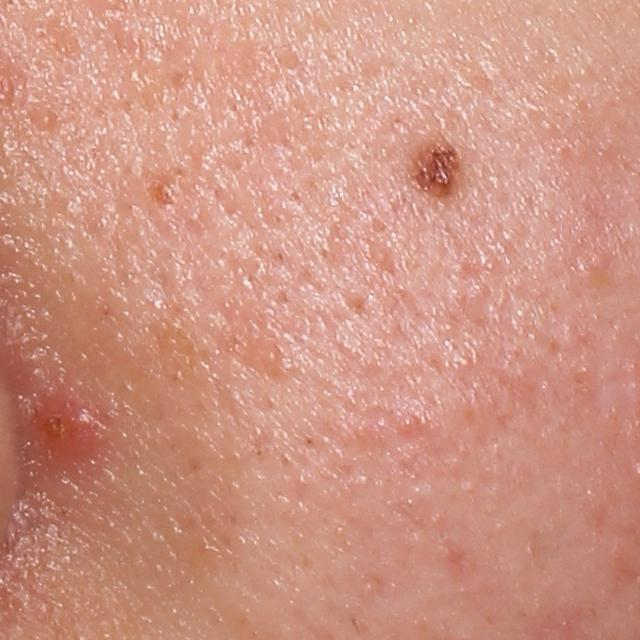comedo: (30, 108, 59, 133), (395, 414, 416, 437)
nevus: (404, 125, 476, 211)
papule: (21, 382, 117, 467)
